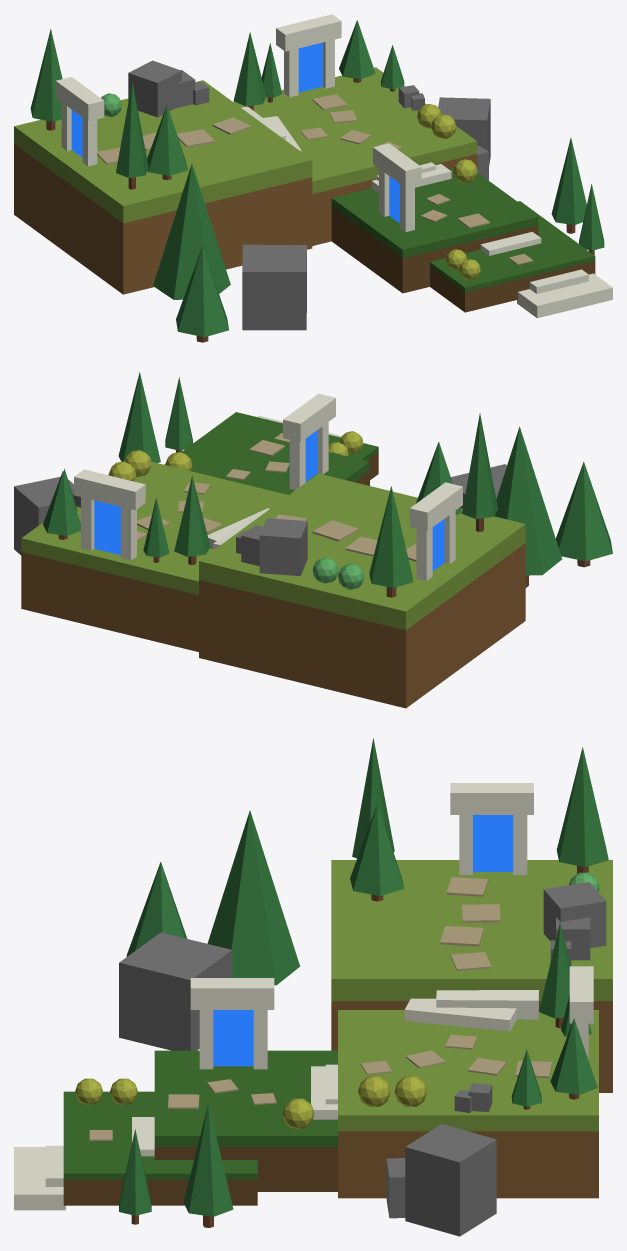
Rendered from environment.glb.
The picture shows the model from 3 angles, top to bottom: view 1: azimuth 30°, elevation 25°; view 2: azimuth 150°, elevation 25°; view 3: azimuth 270°, elevation 25°; orthographic projection. The views are drawn at different scales.
Visible parts, largest first — view 1: terrain, terrain.001, terrain.002, terrain.003, rocks, trees.009, trees.010, stairs, rocks.002, trees.007, trees.001, trees.002 (+25 smaller); view 2: terrain, terrain.001, terrain.002, trees.009, trees.010, rocks.002, trees.002, trees.001, rocks.007, gates.005, trees.007, terrain.003 (+22 smaller); view 3: terrain.001, terrain, terrain.002, terrain.003, rocks, rocks.007, trees.009, trees.002, trees.007, trees, rocks.002, gates.002 (+28 smaller).
Part boxes in pixels (<box>): terrain: <box>14,80,312,294</box>; terrain.001: <box>233,67,477,245</box>; terrain.002: <box>331,168,538,293</box>; terrain.003: <box>430,201,595,312</box>; rocks: <box>242,244,306,330</box>; trees.009: <box>153,163,230,299</box>; trees.010: <box>176,246,228,342</box>; stairs: <box>517,273,612,318</box>; rocks.002: <box>128,60,181,117</box>; trees.007: <box>551,137,586,233</box>; trees.001: <box>116,81,148,189</box>; trees.002: <box>30,28,62,130</box>; terrain: <box>199,473,525,708</box>; terrain.001: <box>21,461,288,651</box>; terrain.002: <box>184,425,369,494</box>; trees.009: <box>494,426,561,587</box>; trees.010: <box>556,461,612,567</box>; rocks.002: <box>259,518,307,575</box>; trees.002: <box>369,486,413,597</box>; trees.001: <box>462,413,497,531</box>; rocks.007: <box>14,476,73,555</box>; gates.005: <box>74,469,145,510</box>; trees.007: <box>118,372,160,462</box>; terrain.003: <box>164,412,378,479</box>; terrain.001: <box>338,1010,598,1198</box>; terrain: <box>331,860,612,1092</box>; terrain.002: <box>154,1050,337,1191</box>; terrain.003: <box>63,1091,257,1205</box>; rocks: <box>119,932,232,1050</box>; rocks.007: <box>405,1124,496,1236</box>; trees.009: <box>207,810,300,985</box>; trees.002: <box>556,747,608,873</box>; trees.007: <box>183,1103,233,1227</box>; trees: <box>350,804,404,901</box>; rocks.002: <box>543,882,606,948</box>; gates.002: <box>190,978,274,1009</box>.
Size of what is drawn, in the model's own units: 17.32 by 7.72 by 16.22.
